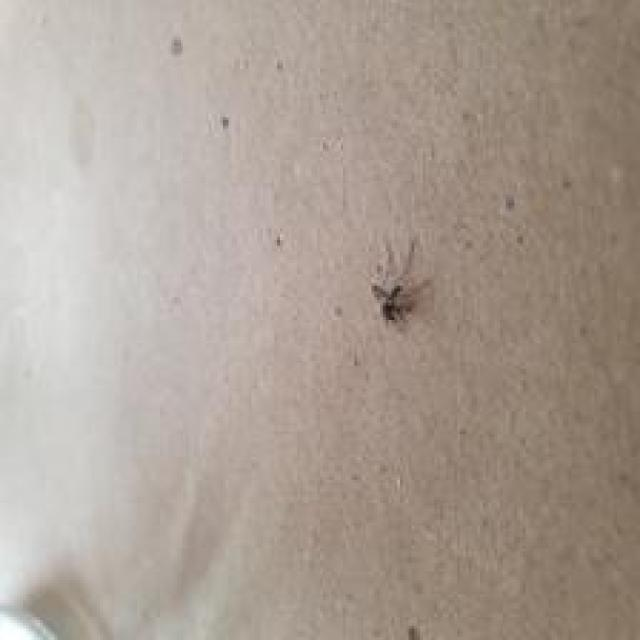Aedes albopictus: (367, 236, 433, 327)
